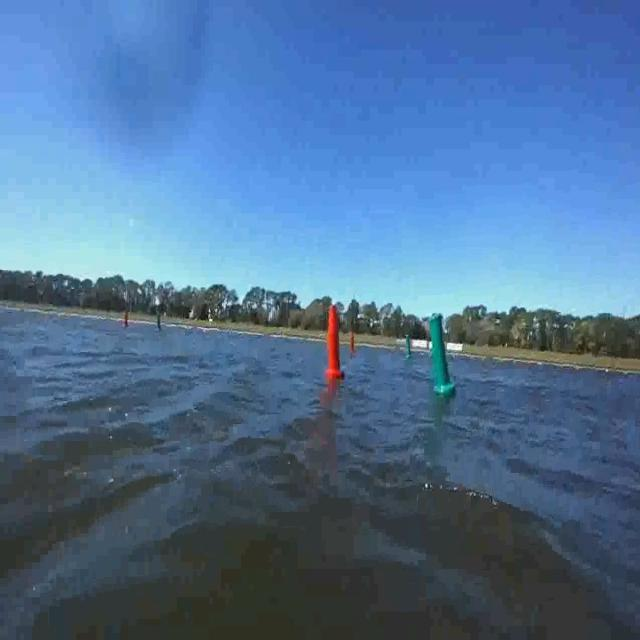green-column-buoy: (426, 311, 456, 396), (406, 336, 415, 361), (155, 310, 162, 330)
red-column-buoy: (325, 302, 345, 380), (349, 332, 357, 357), (122, 309, 129, 328)
